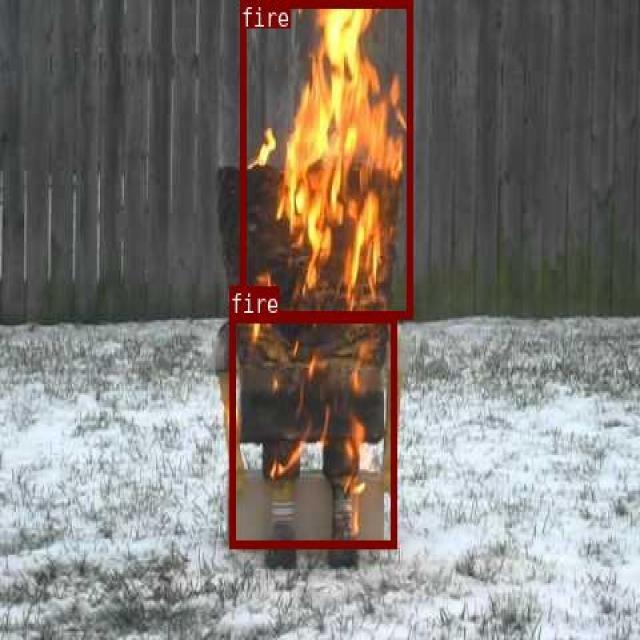fire: (238, 0, 410, 316), (228, 314, 396, 547)
